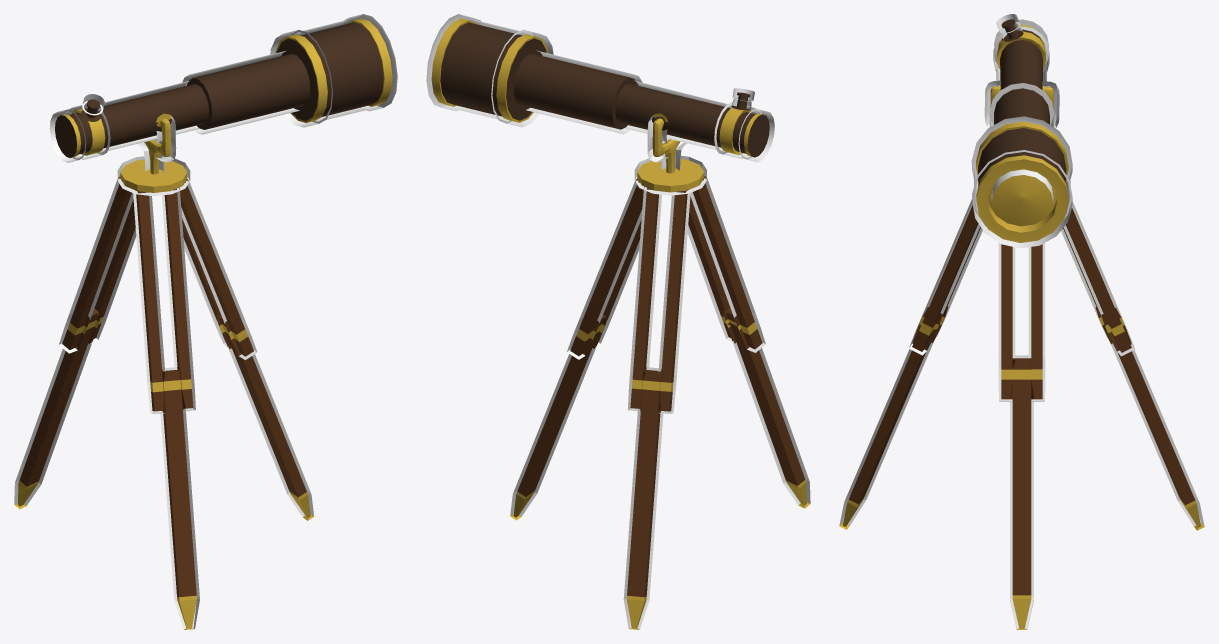
File: telescope.glb
3 renders of one model, left to right at view 1: azimuth 30°, elevation 25°; view 2: azimuth 150°, elevation 25°; view 3: azimuth 270°, elevation 25°, orthographic. The views are drawn at different scales.
Visible parts, largest first — view 1: telescopeBottom, telescope, telescopeMiddle; view 2: telescopeBottom, telescope, telescopeMiddle; view 3: telescopeBottom, telescope, telescopeMiddle.
Boxes of the visible parts, x1,y1,x2,y2 form: telescopeBottom: (14,156,314,629); telescope: (49,14,397,162); telescopeMiddle: (138,113,176,174); telescopeBottom: (510,155,810,629); telescope: (426,14,774,162); telescopeMiddle: (647,113,686,173); telescopeBottom: (839,199,1204,629); telescope: (971,14,1072,248); telescopeMiddle: (984,80,1059,128).
Bounding box in the file's own units: 1 × 1.49 × 0.9685.
